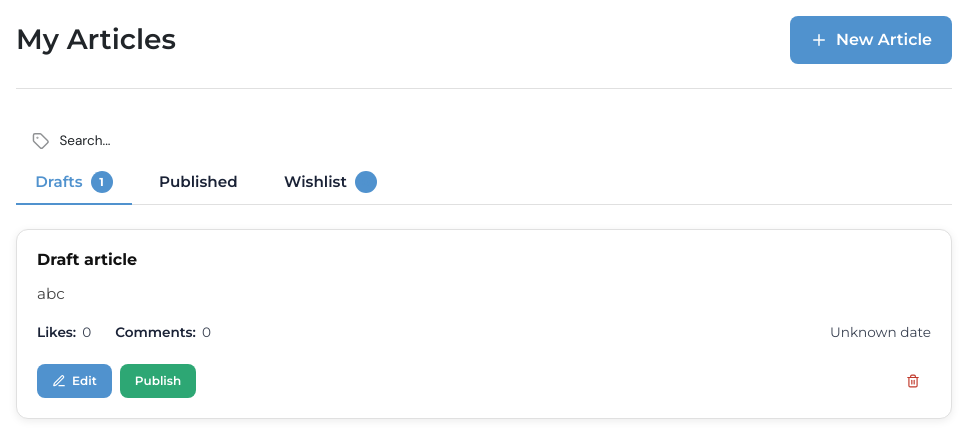
Test: Profile area › MyArticles removes an article after delete succeeds
Expected: the heading "Draft article" is shown, [37,250,137,269]
// 🟢 Modificat: Căutăm butonul prin selectorul de clasă .btn-delete
Click the button with class "btn-delete" at (913, 381), box [895,366,931,396]
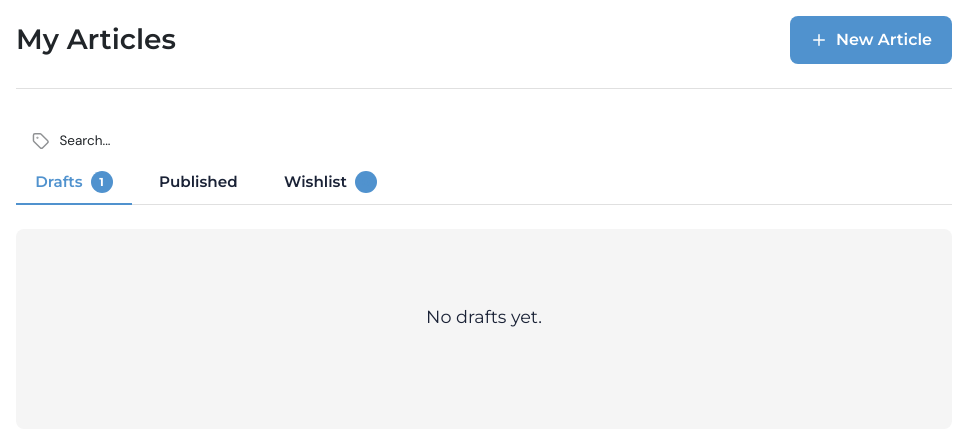
Now the heading "Draft article" is gone
